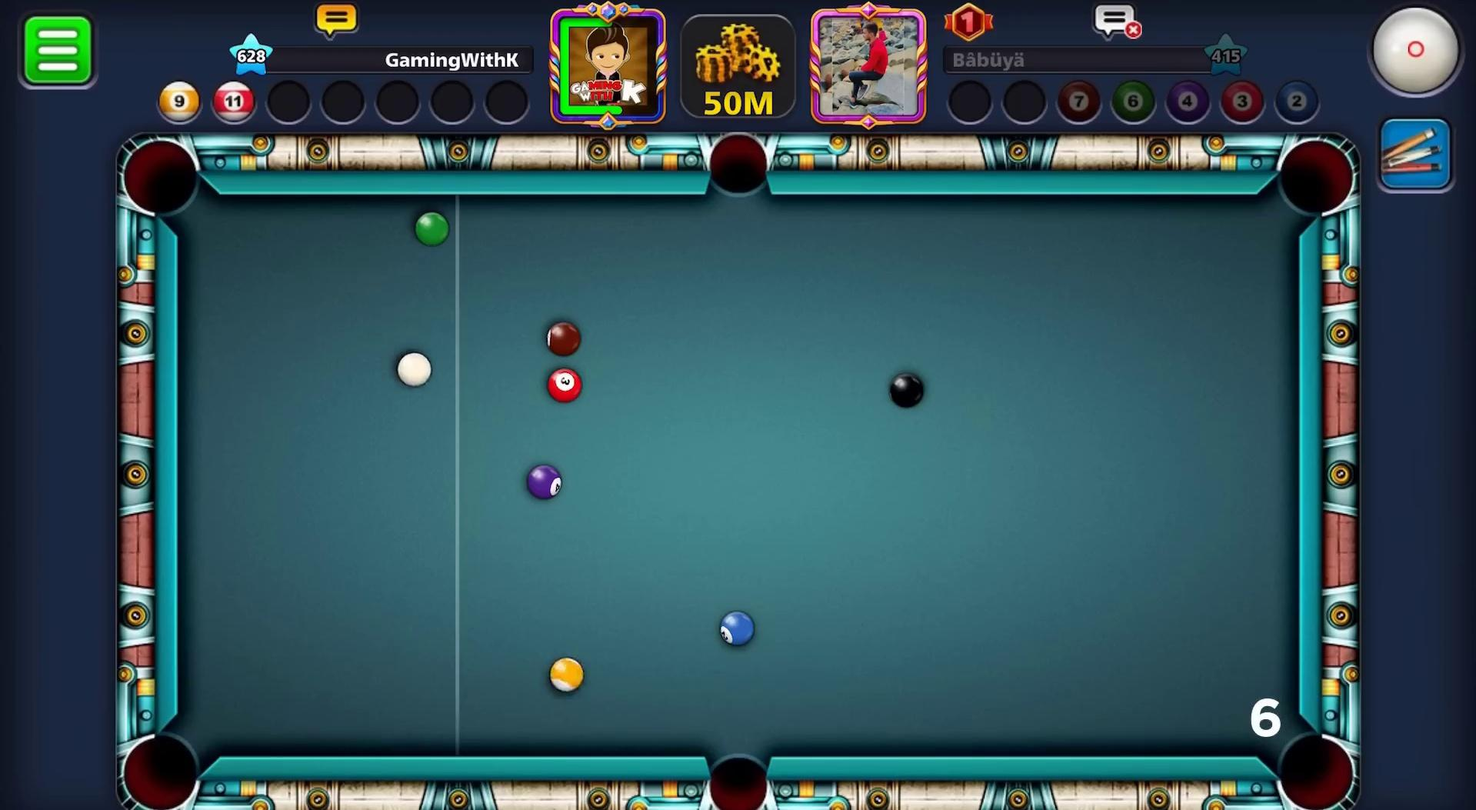Ball: (515, 455, 571, 508), (537, 359, 588, 411), (537, 317, 586, 362), (883, 370, 929, 414), (715, 607, 756, 655), (543, 655, 587, 698), (408, 210, 449, 249)
Hole: (104, 715, 220, 809), (108, 124, 210, 228), (1264, 127, 1364, 228), (1261, 714, 1365, 809), (698, 120, 789, 218), (690, 725, 783, 809)
Play_Area: (180, 195, 1301, 757)
Spin: (1362, 0, 1475, 109)
White: (389, 345, 435, 390)
